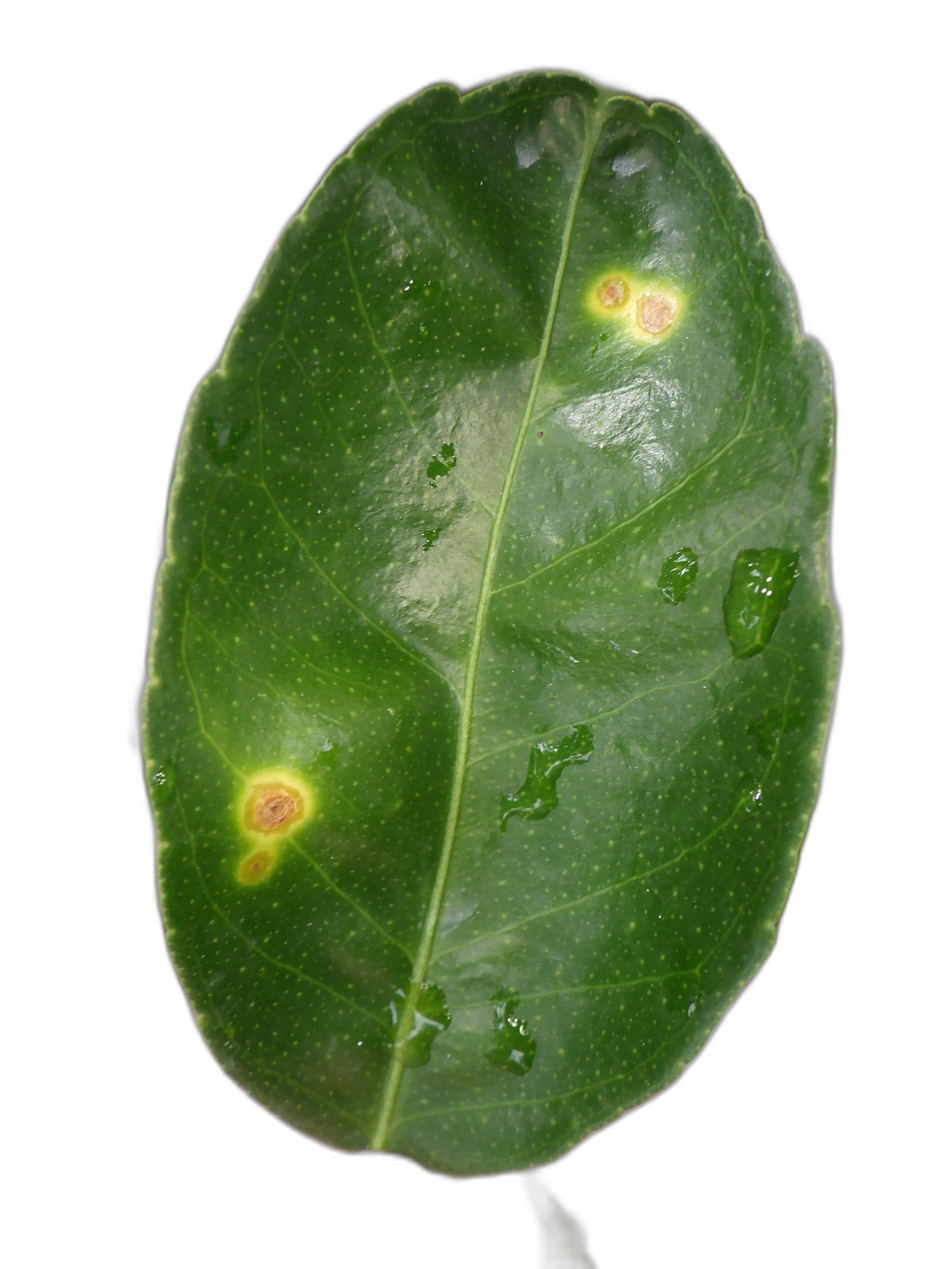Canker: (243, 781, 306, 836), (637, 292, 677, 335), (591, 274, 632, 312), (237, 845, 276, 882)
